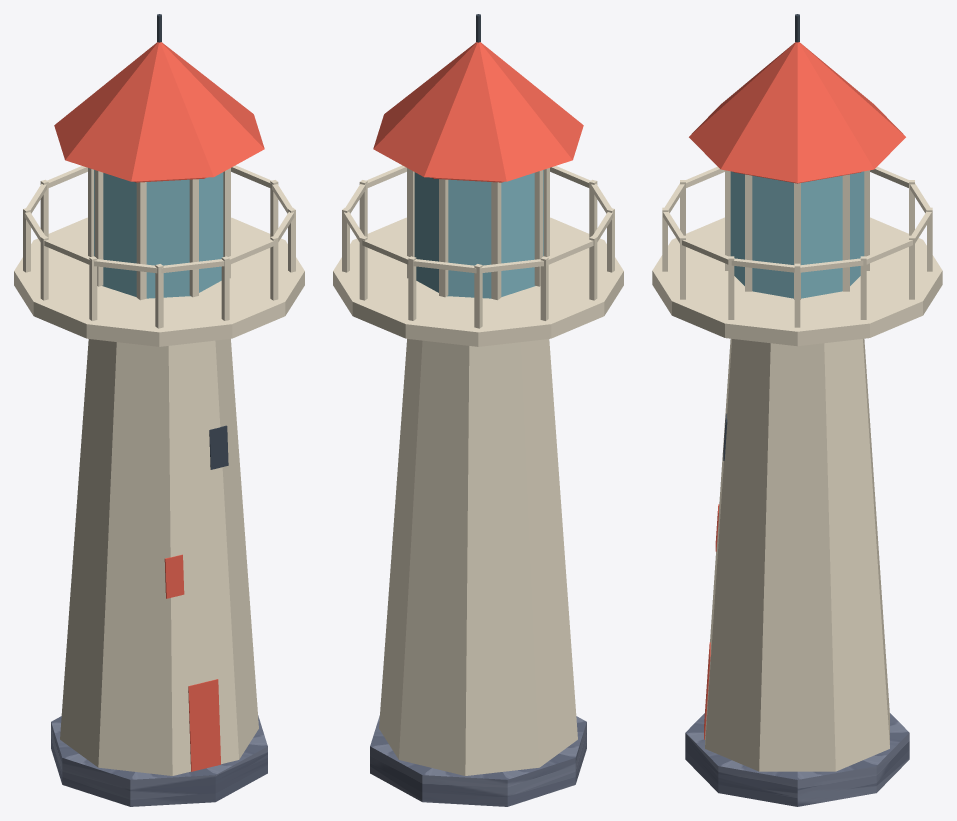
Rendered from lighthouse.glb.
3 views of the same model, side by side, from view 1: azimuth 30°, elevation 25°; view 2: azimuth 150°, elevation 25°; view 3: azimuth 270°, elevation 25° (orthographic).
Visible parts, largest first — view 1: beach_lighthouse; view 2: beach_lighthouse; view 3: beach_lighthouse.
Part boxes in pixels (x1,y1,x2,y2): beach_lighthouse: (14,14,304,806); beach_lighthouse: (333,14,623,806); beach_lighthouse: (652,14,942,806).
Bounding box in the file's own units: 2.72 × 7.7 × 2.72.
Materials: 1 (1 with a texture image).
